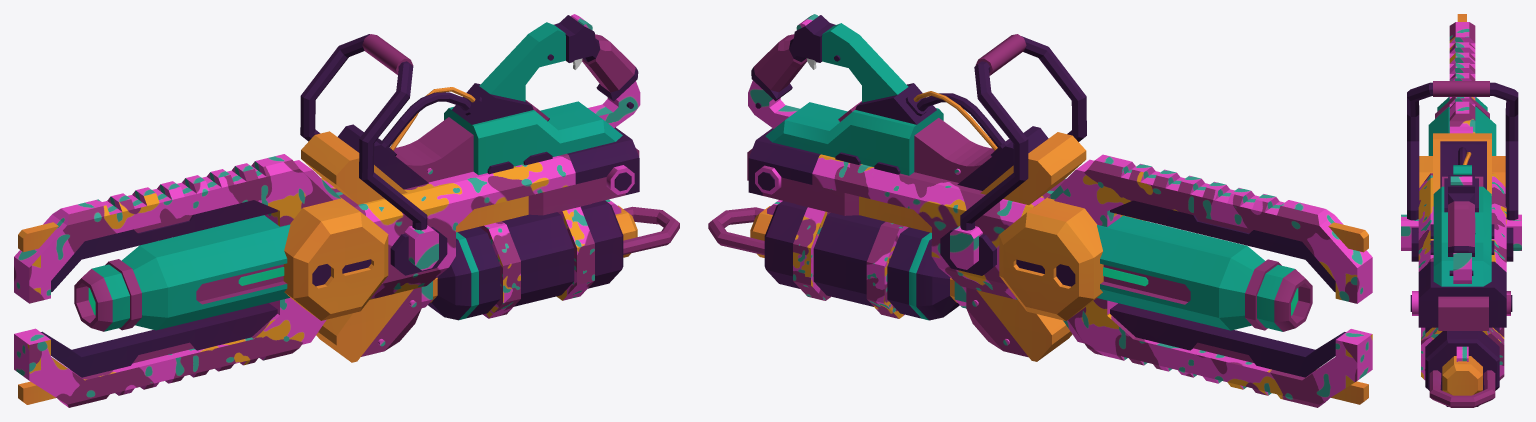
3 views of the same model, side by side, from view 1: azimuth 30°, elevation 25°; view 2: azimuth 150°, elevation 25°; view 3: azimuth 270°, elevation 25° (orthographic). The views are drawn at different scales.
Parts seen in each view (by area): view 1: SM_FT01A, SM_FT01_Cylinder; view 2: SM_FT01A, SM_FT01_Cylinder; view 3: SM_FT01A, SM_FT01_Cylinder.
Part boxes in pixels (box(x1,y1,x2,y2)): SM_FT01A: box(14, 14, 640, 407); SM_FT01_Cylinder: box(428, 199, 679, 320); SM_FT01A: box(747, 14, 1372, 407); SM_FT01_Cylinder: box(708, 200, 959, 320); SM_FT01A: box(1401, 14, 1521, 330); SM_FT01_Cylinder: box(1421, 327, 1504, 407).
Size of the model in its own units: 100 by 42.86 by 19.08.
4 materials, 2 textured.
